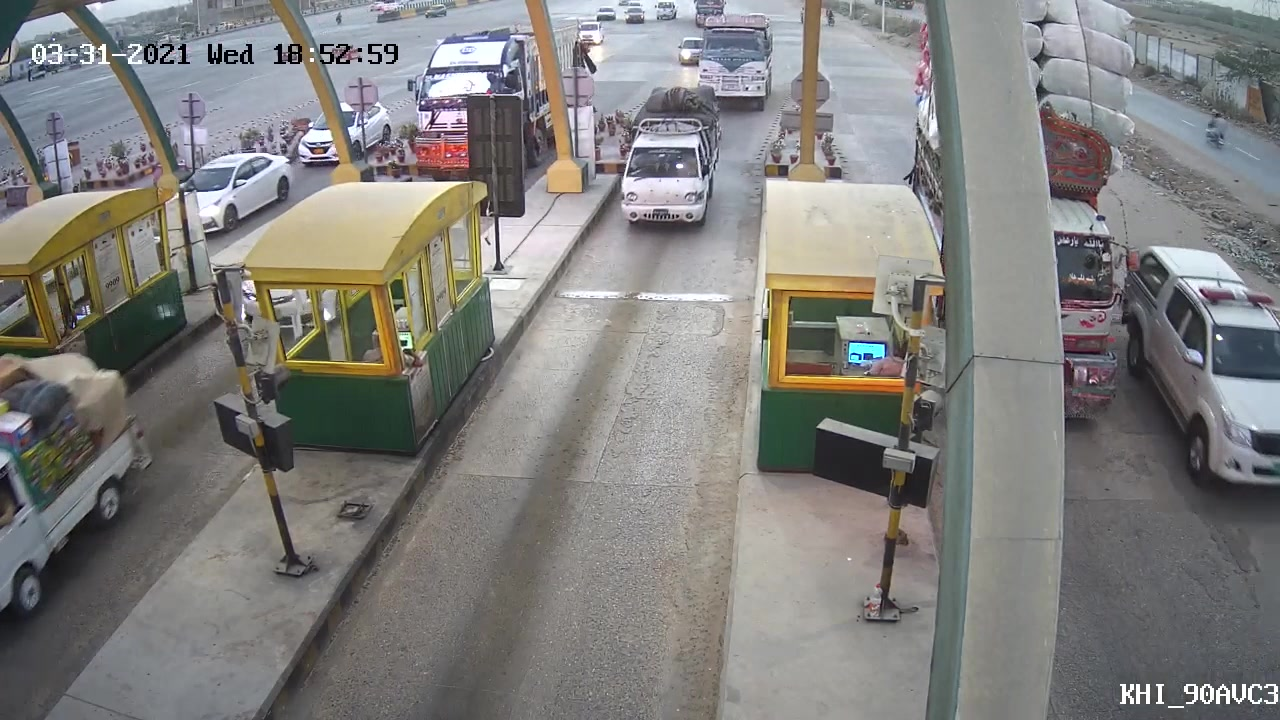F2: (611, 82, 728, 231)
